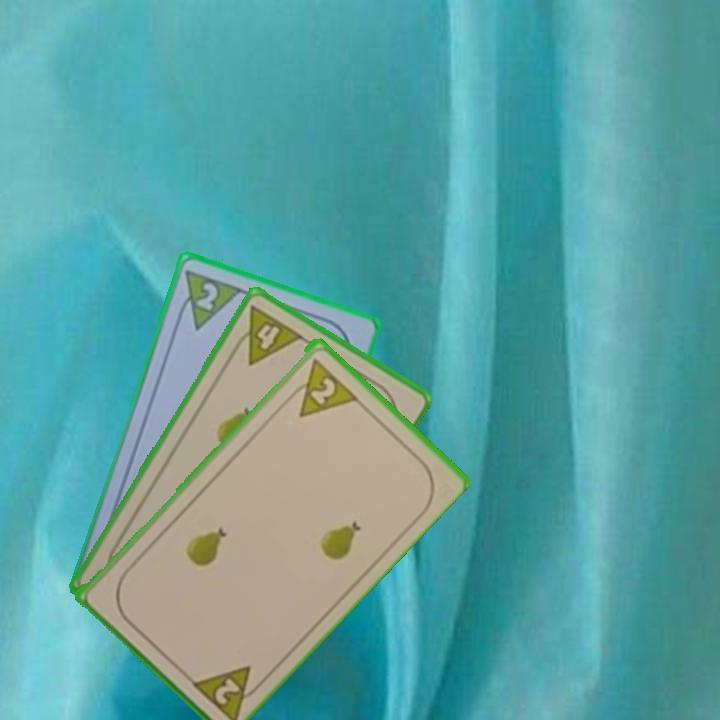2p: (282, 354, 359, 420), (172, 265, 244, 332), (211, 673, 243, 708)
4p: (227, 302, 306, 368)
